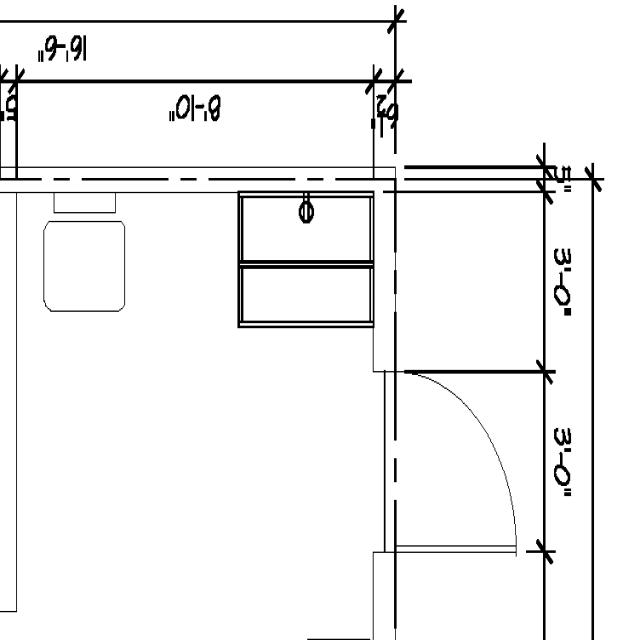Doors: (388, 372, 523, 562)
